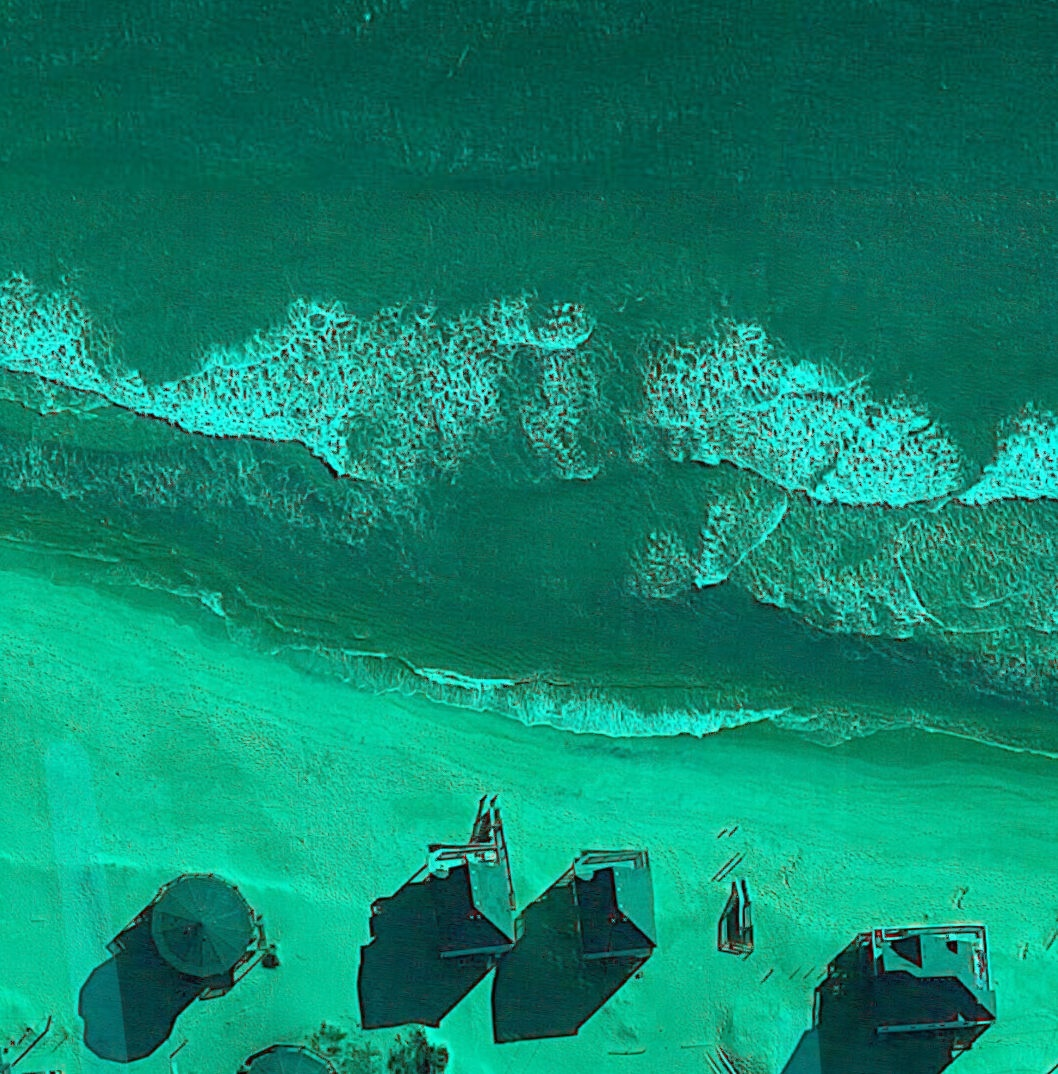rip_current: (422, 275, 697, 638)
